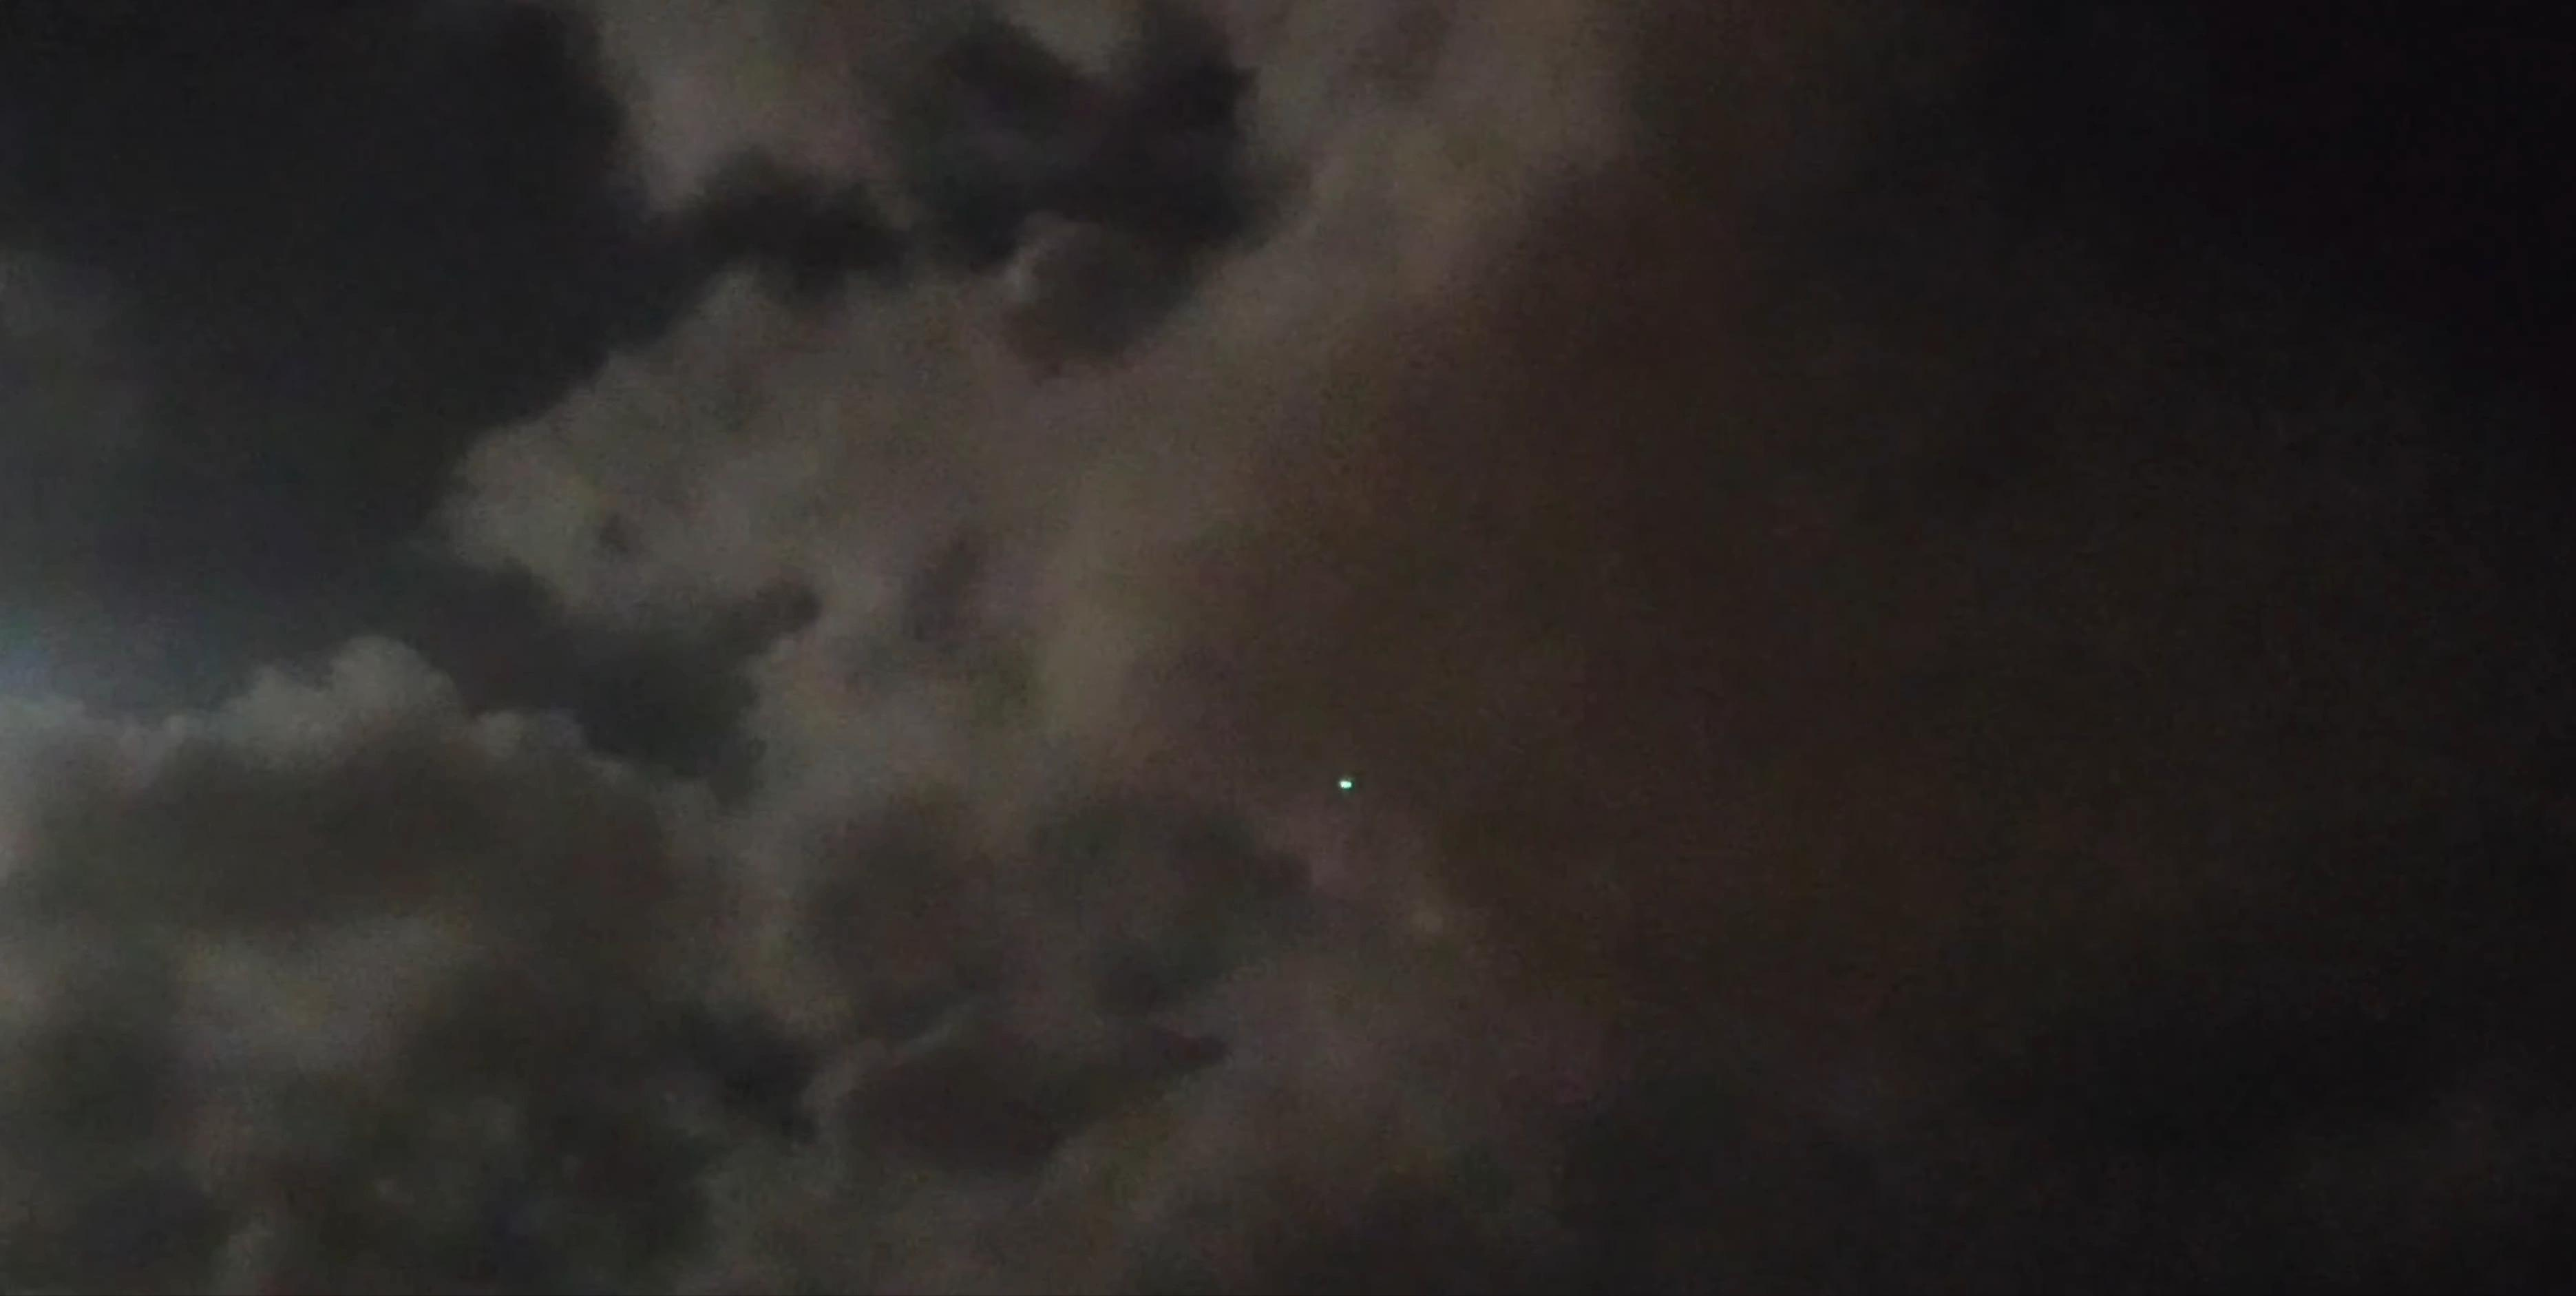Plane: (1320, 762, 1368, 805)
